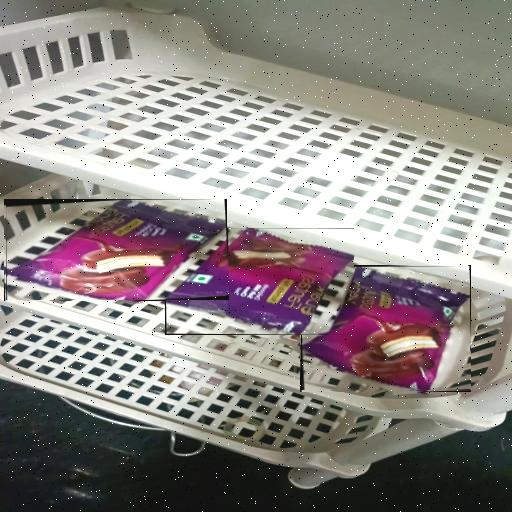Choco Pie: (6, 200, 226, 300), (301, 267, 470, 390), (165, 228, 354, 335)
